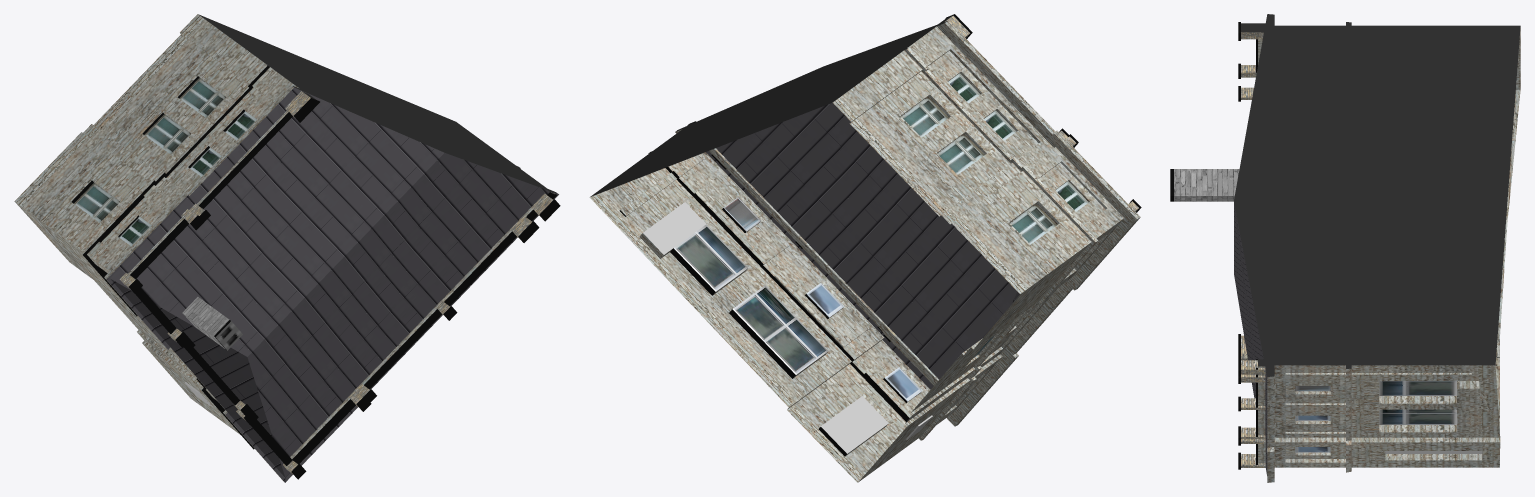
The model's file is Kohtu_6_3.obj.
The picture shows the model from 3 angles, left to right: view 1: azimuth 30°, elevation 25°; view 2: azimuth 150°, elevation 25°; view 3: azimuth 270°, elevation 25°; orthographic projection. The views are drawn at different scales.
Visible parts, largest first — view 1: Kohtu_6_3; view 2: Kohtu_6_3; view 3: Kohtu_6_3.
Boxes of the visible parts, box(x1,y1,x2,y2) form: Kohtu_6_3: box(14, 14, 560, 482); Kohtu_6_3: box(589, 14, 1141, 482); Kohtu_6_3: box(1170, 14, 1520, 482).
Size of the model in its own units: 18.03 by 14.96 by 10.02.
